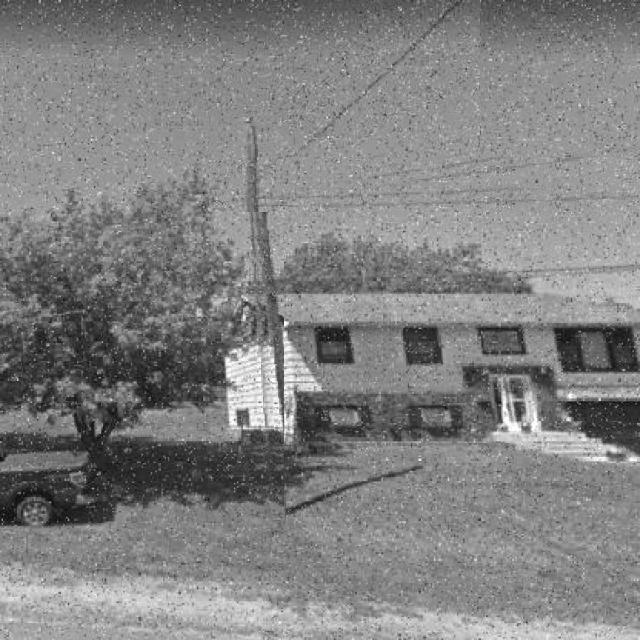pole: (249, 119, 284, 461)
wire: (265, 0, 468, 182), (209, 157, 550, 204), (213, 189, 639, 212)
